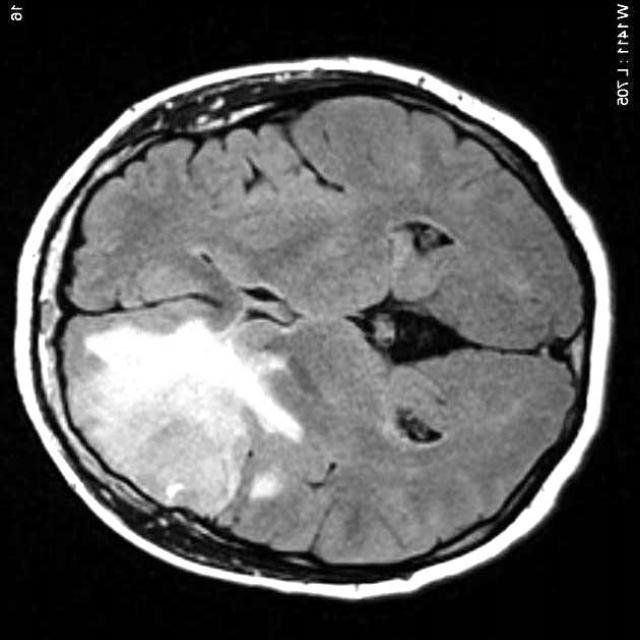tumor: (74, 321, 304, 516)
